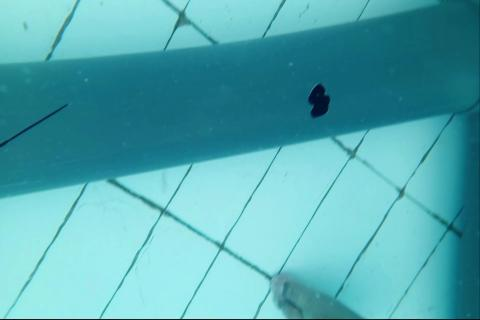kebocoran: (306, 81, 331, 119)
keretakan: (0, 100, 70, 147)
